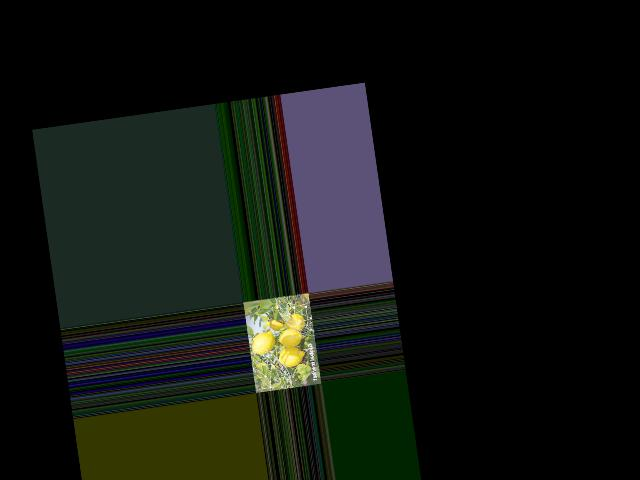lemon: (248, 329, 277, 356)
